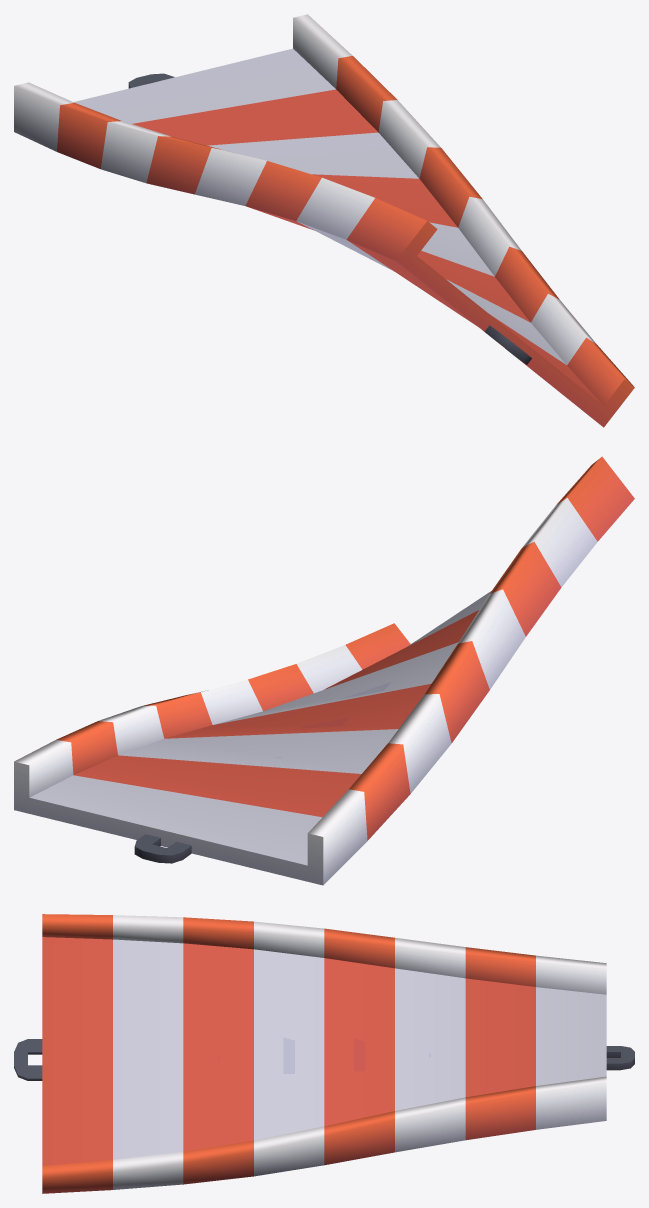
The model's file is track-striped-wide-straight-skew-left.glb.
3 renders of one model, top to bottom at view 1: azimuth 30°, elevation 25°; view 2: azimuth 150°, elevation 25°; view 3: azimuth 270°, elevation 25°, orthographic. The views are drawn at different scales.
Parts seen in each view (by area): view 1: track-striped-wide-straight-skew-left; view 2: track-striped-wide-straight-skew-left; view 3: track-striped-wide-straight-skew-left.
Part boxes in pixels (bbox=[...]): track-striped-wide-straight-skew-left: bbox=[14, 14, 634, 427]; track-striped-wide-straight-skew-left: bbox=[14, 456, 634, 885]; track-striped-wide-straight-skew-left: bbox=[14, 914, 634, 1193].
Bounding box in the file's own units: 2.04 × 1.63 × 4.4.
Materials: 1 (1 with a texture image).
